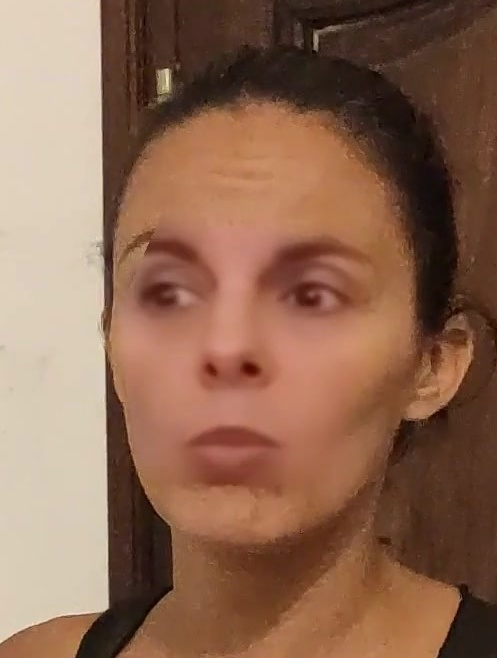eb_f: (111, 219, 383, 328)
